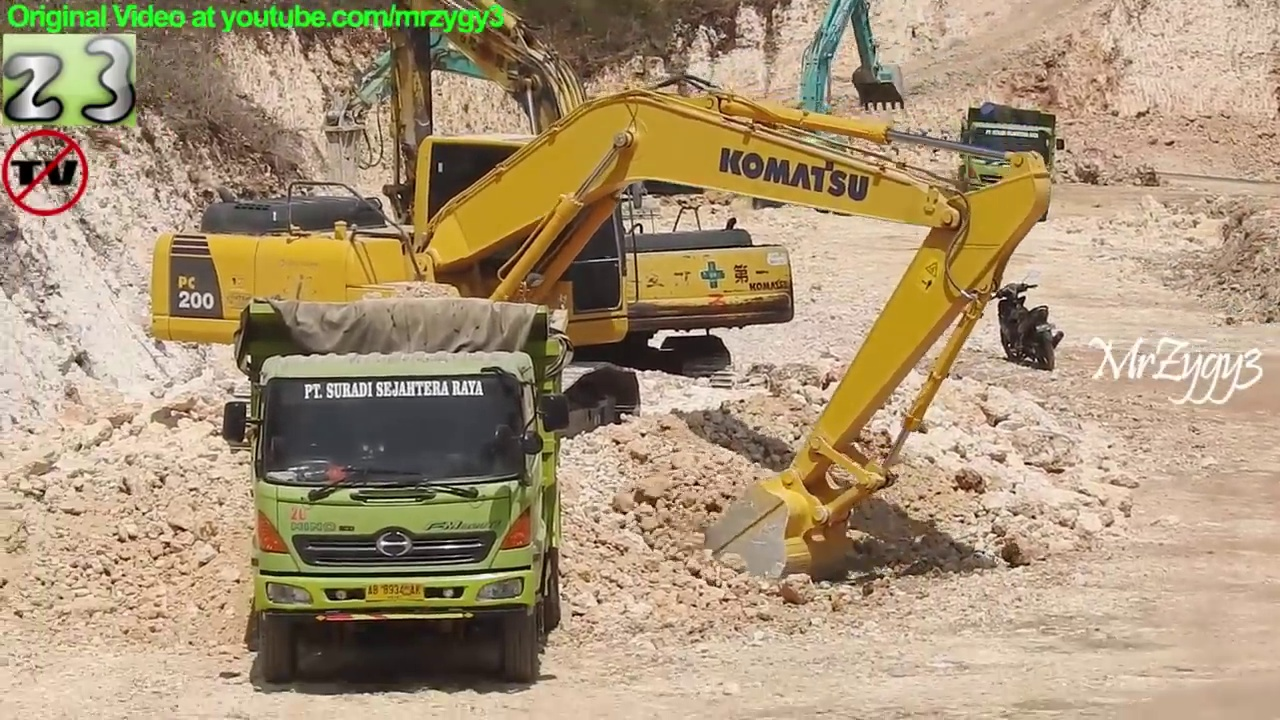excavator: (138, 68, 1065, 599), (368, 1, 803, 403), (317, 7, 720, 234), (733, 1, 917, 219)
truck: (217, 290, 578, 692), (951, 96, 1071, 227)
